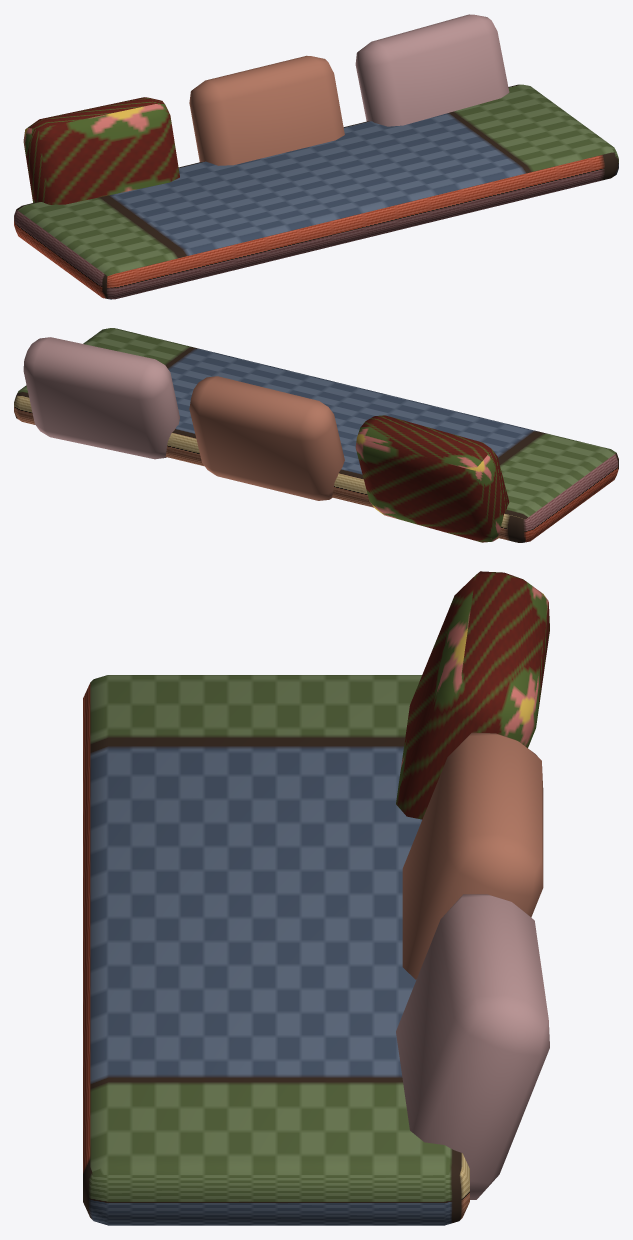
File: pillow-quilt-set.glb
3 views of the same model, one above another, from view 1: azimuth 30°, elevation 25°; view 2: azimuth 150°, elevation 25°; view 3: azimuth 270°, elevation 25° (orthographic). The views are drawn at different scales.
Parts seen in each view (by area): view 1: quilt, pillow-0, pillow-1, pillow-2; view 2: quilt, pillow-2, pillow-1, pillow-0; view 3: quilt, pillow-2, pillow-1, pillow-0.
Boxes of the visible parts, x1,y1,x2,y2 form: quilt: (14,84,618,299); pillow-0: (23,97,179,204); pillow-1: (189,55,344,165); pillow-2: (355,14,509,126); quilt: (14,328,618,542); pillow-2: (23,337,179,459); pillow-1: (189,376,344,500); pillow-0: (355,415,509,542); quilt: (83,675,469,1225); pillow-2: (396,894,549,1199); pillow-1: (402,732,543,979); pillow-0: (396,571,549,819).
Size of the model in its own units: 2.35 by 0.4364 by 0.9172.
4 materials, 2 textured.
